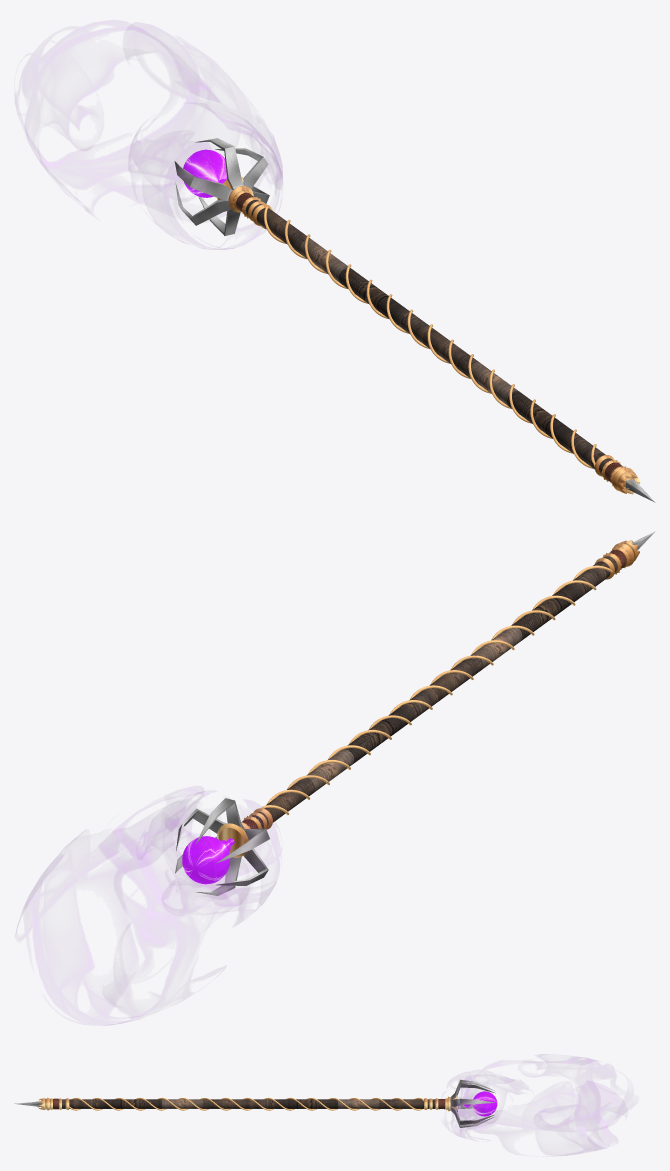
Rendered from cetrocajado_magico_-_scepterwand.glb.
3 views of the same model, one above another, from view 1: azimuth 30°, elevation 25°; view 2: azimuth 150°, elevation 25°; view 3: azimuth 270°, elevation 25° (orthographic). The views are drawn at different scales.
Parts seen in each view (by area): view 1: Cylinder004, Helix002_Material #25_0, Helix001_Material #25_0, Sphere044, Sphere045, Pyramid016, Pyramid014; view 2: Cylinder004, Sphere044, Sphere045, Helix002_Material #25_0, Helix001_Material #25_0; view 3: Cylinder004, Sphere045, Helix001_Material #25_0, Helix002_Material #25_0, Sphere044, Pyramid012, Sphere046, Pyramid017, Pyramid014.
Part boxes in pixels (x1,y1,x2,y2): Cylinder004: (245, 200, 612, 474); Helix002_Material #25_0: (264, 206, 596, 466); Helix001_Material #25_0: (260, 219, 593, 468); Sphere044: (183, 149, 226, 197); Sphere045: (25, 25, 282, 211); Pyramid016: (174, 161, 232, 201); Pyramid014: (195, 138, 243, 189); Cylinder004: (252, 556, 617, 828); Sphere044: (182, 836, 230, 884); Sphere045: (24, 824, 179, 1024); Helix002_Material #25_0: (261, 565, 612, 815); Helix001_Material #25_0: (267, 580, 596, 803); Cylinder004: (62, 1099, 435, 1108); Sphere045: (535, 1057, 626, 1155); Helix001_Material #25_0: (68, 1097, 422, 1110); Helix002_Material #25_0: (72, 1097, 423, 1110); Sphere044: (472, 1091, 497, 1116); Pyramid012: (450, 1098, 495, 1106); Sphere046: (457, 1075, 514, 1136); Pyramid017: (450, 1106, 495, 1124); Pyramid014: (450, 1079, 495, 1100).
Size of the model in its own units: 9.88 by 10.14 by 62.47.
Materials: 6 (5 with a texture image).
